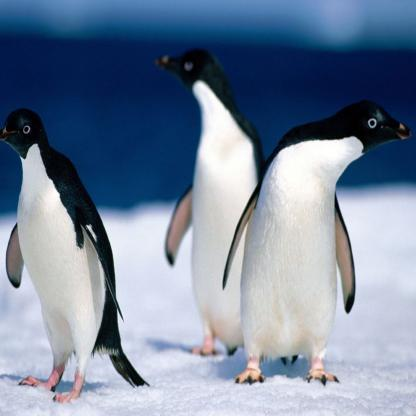Penguin: (222, 78, 416, 401), (0, 96, 160, 402), (156, 37, 286, 376)
